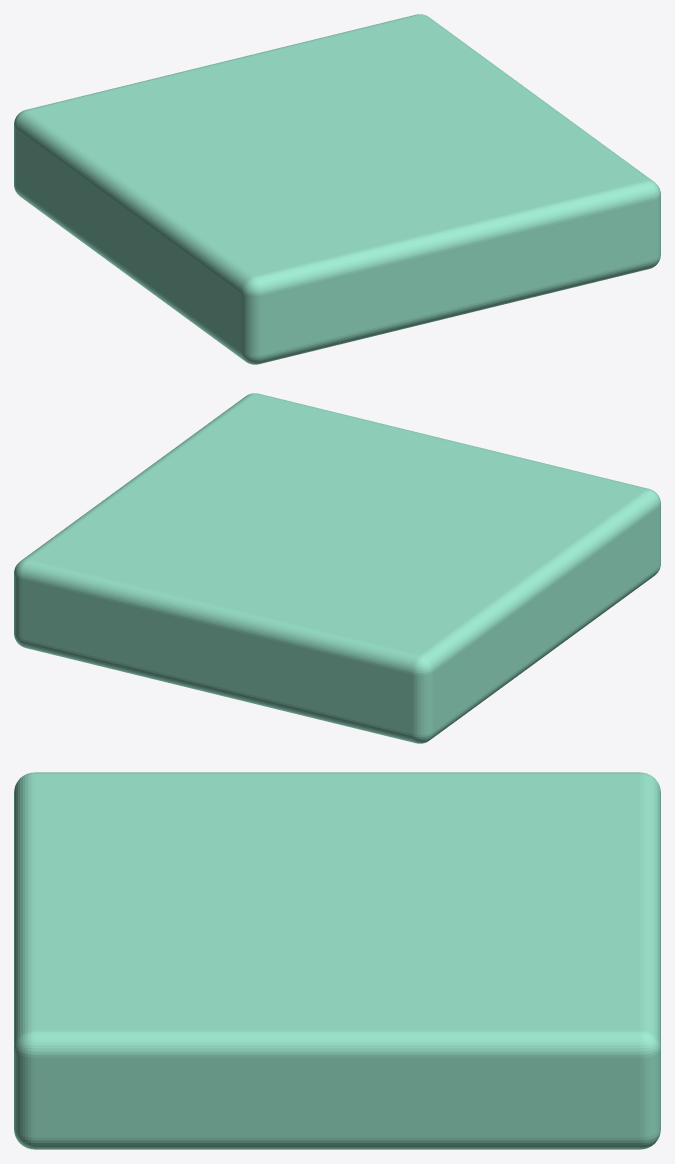
The model's file is Plate_Normal.fbx.
The picture shows the model from 3 angles, top to bottom: view 1: azimuth 30°, elevation 25°; view 2: azimuth 150°, elevation 25°; view 3: azimuth 270°, elevation 25°; orthographic projection. The views are drawn at different scales.
Visible parts, largest first — view 1: Cube; view 2: Cube; view 3: Cube.
Part boxes in pixels (<box>): Cube: <box>14,14,660,364</box>; Cube: <box>14,393,660,743</box>; Cube: <box>14,772,660,1149</box>.
Bounding box in the file's own units: 1000 × 200 × 1000.
